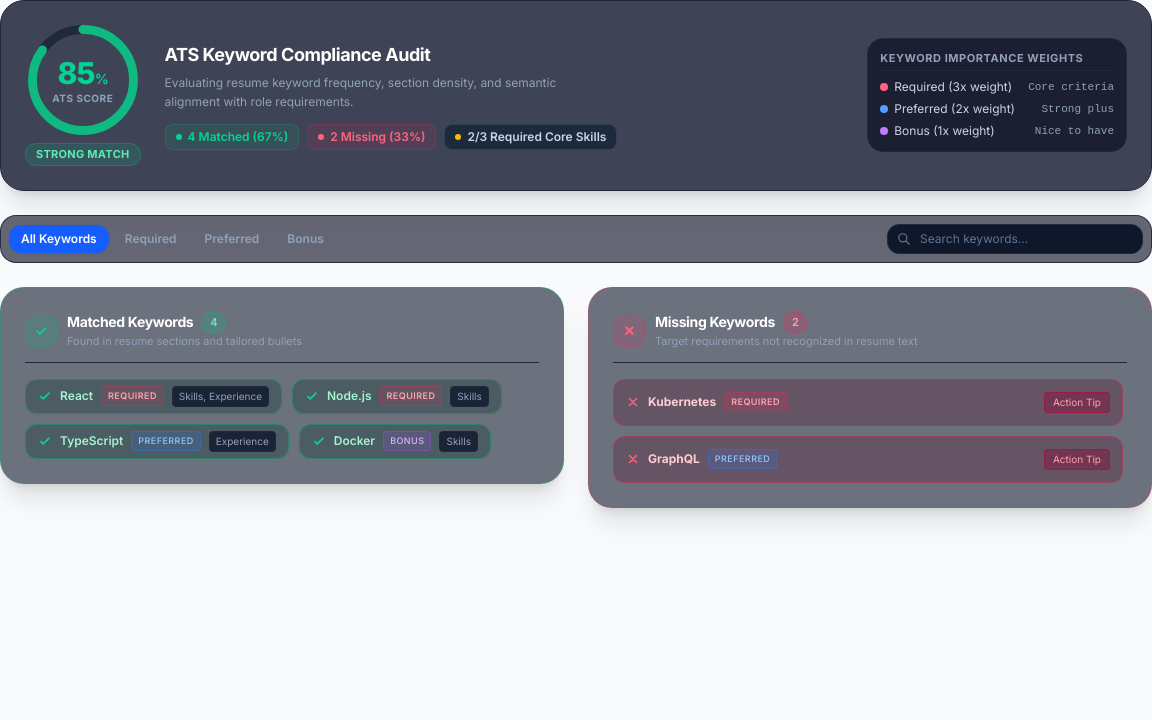
it: ATSReport Component › expands and collapses optimization suggestions on click
Expected: the text "Highlight any container orchestration" is not shown
Click the button with aria-label "Show action tip for keyword Kubernetes".
click(1077, 402)  # box top-left (1044, 392), bottom-right (1110, 413)
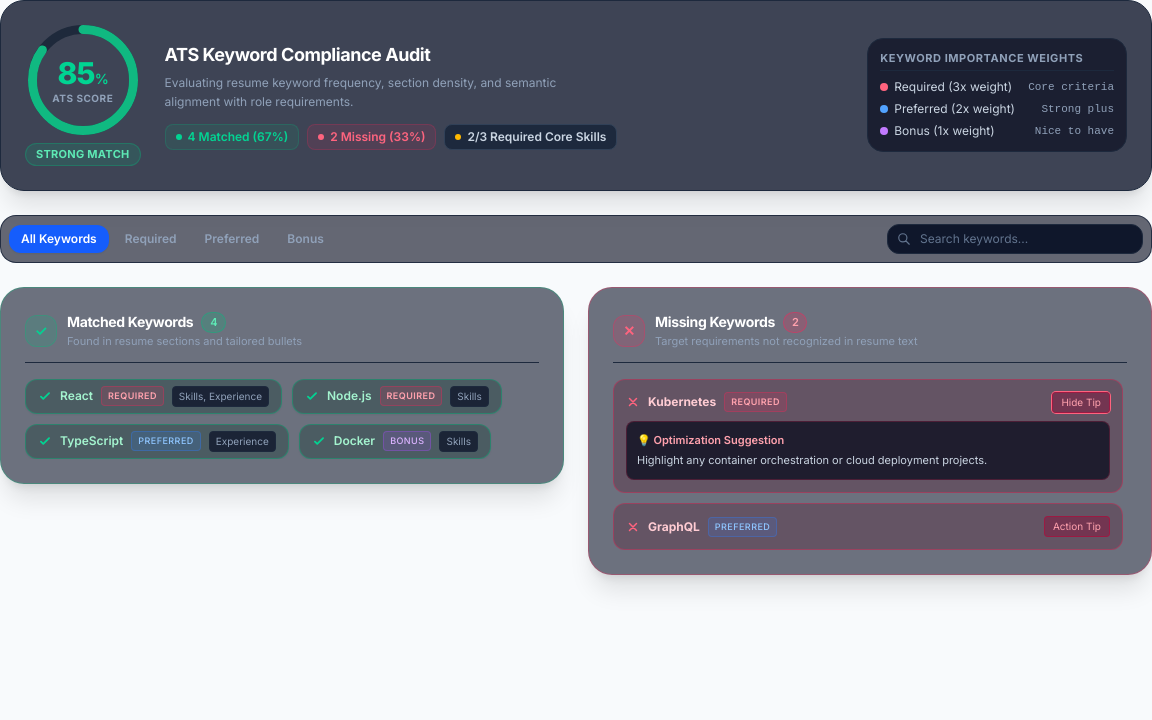
Expected: the text "Highlight any container orchestration" is shown, top-left (637, 453), bottom-right (987, 467)
Click the button with aria-label "Hide action tip for keyword Kubernetes".
click(1081, 402)  # box top-left (1052, 392), bottom-right (1110, 413)
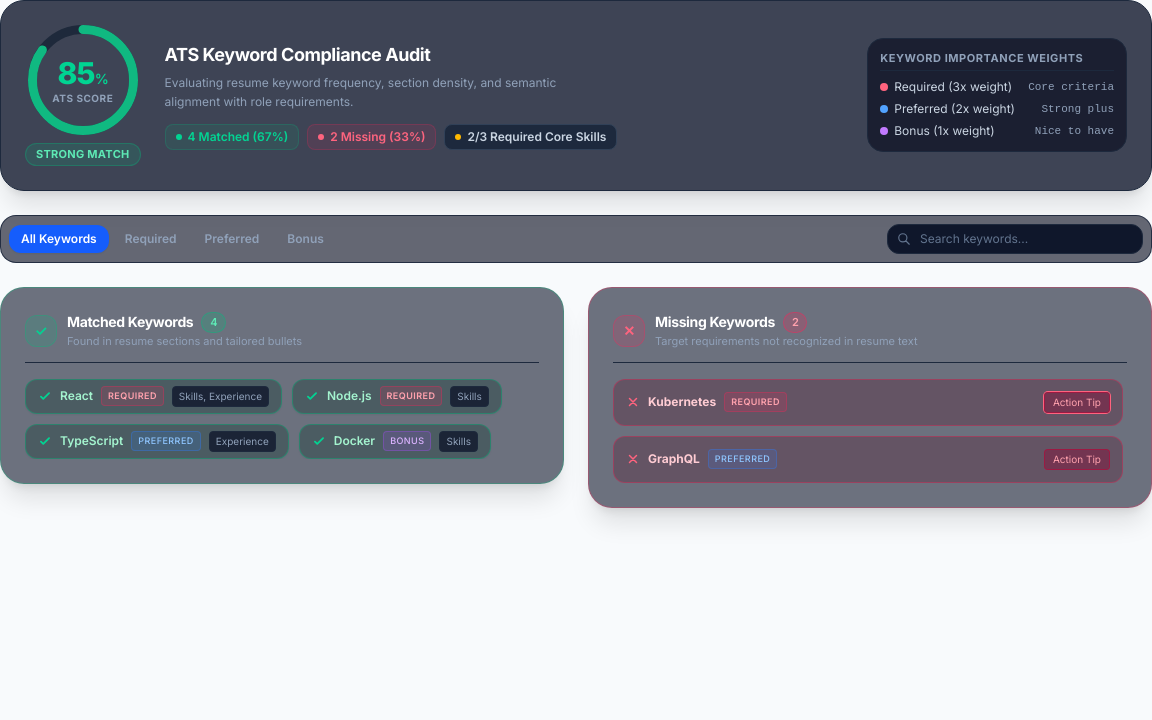
Expected: the text "Highlight any container orchestration" is gone
